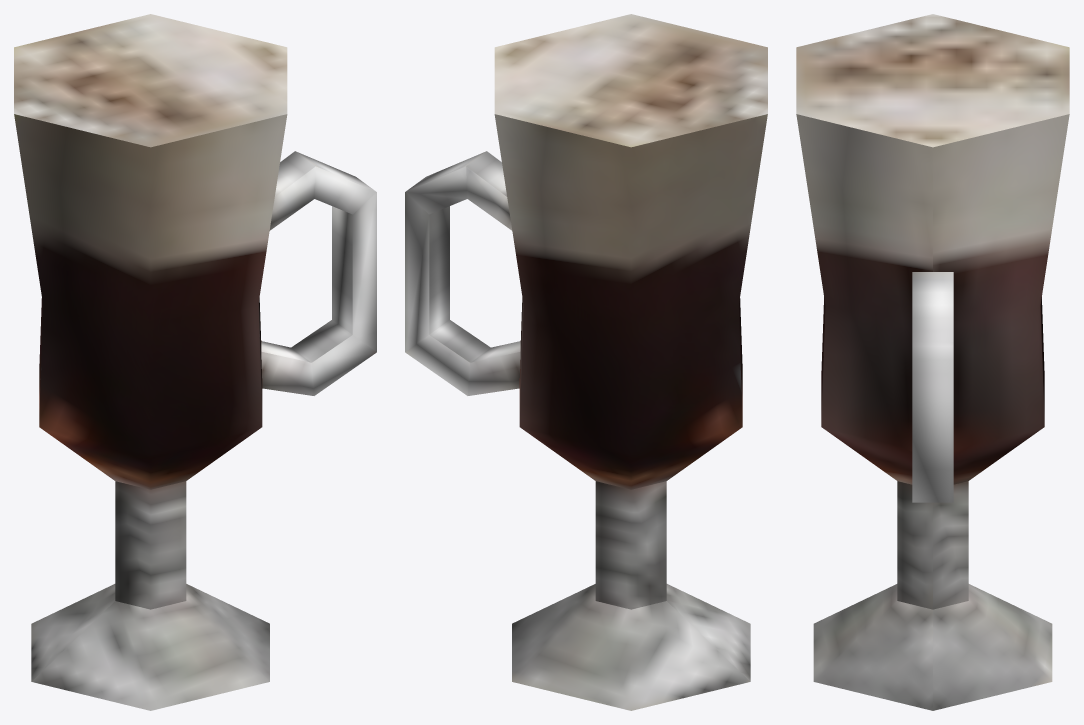
The model's file is DrinkV13.fbx.
3 views of the same model, side by side, from view 1: azimuth 30°, elevation 25°; view 2: azimuth 150°, elevation 25°; view 3: azimuth 270°, elevation 25° (orthographic).
Parts seen in each view (by area): view 1: Cocktails.017; view 2: Cocktails.017; view 3: Cocktails.017.
Boxes of the visible parts, left/top/right/bottom form: Cocktails.017: left=14, top=14, right=376, bottom=710; Cocktails.017: left=405, top=14, right=767, bottom=710; Cocktails.017: left=796, top=14, right=1069, bottom=710.
Bounding box in the file's own units: 0.1639 × 0.2543 × 0.1101.
